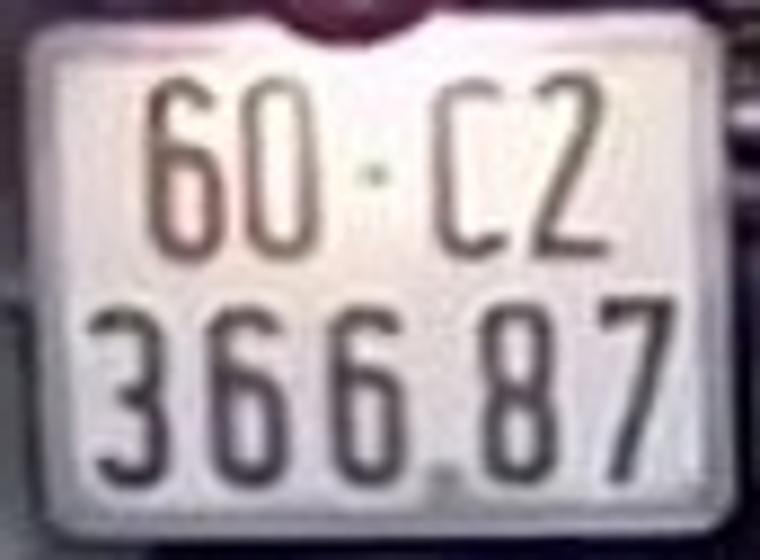-: (351, 154, 393, 188)
.: (426, 459, 464, 485)
0: (81, 307, 173, 487), (235, 75, 321, 257)
2: (531, 73, 613, 260)
6: (205, 311, 292, 485), (144, 72, 220, 257), (329, 308, 406, 484)
7: (593, 295, 669, 484)
8: (479, 307, 554, 482)
C: (419, 75, 507, 258)
